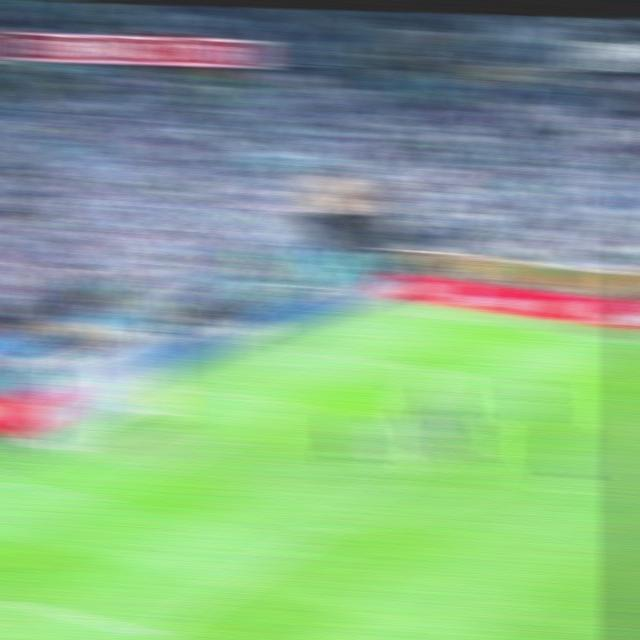bigarea_bottom_inner: (132, 615, 174, 640)
bigarea_top_inner: (532, 378, 568, 399)
bigarea_top_outter: (290, 340, 325, 359)
bottom_arc_area_intersection: (303, 514, 343, 541)
corner: (387, 302, 423, 317)
smallarea_bottom_inner: (71, 483, 112, 514)
smallarea_bottom_outter: (0, 467, 17, 490)
smallarea_top_inner: (270, 393, 308, 416)
smallarea_top_outter: (194, 380, 229, 400)
top_arc_area_intersection: (436, 437, 467, 456)
